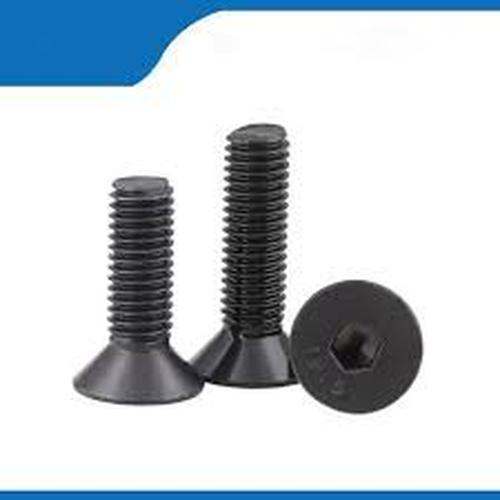Tornillo: (70, 174, 213, 406), (190, 121, 304, 391), (283, 278, 428, 419)
